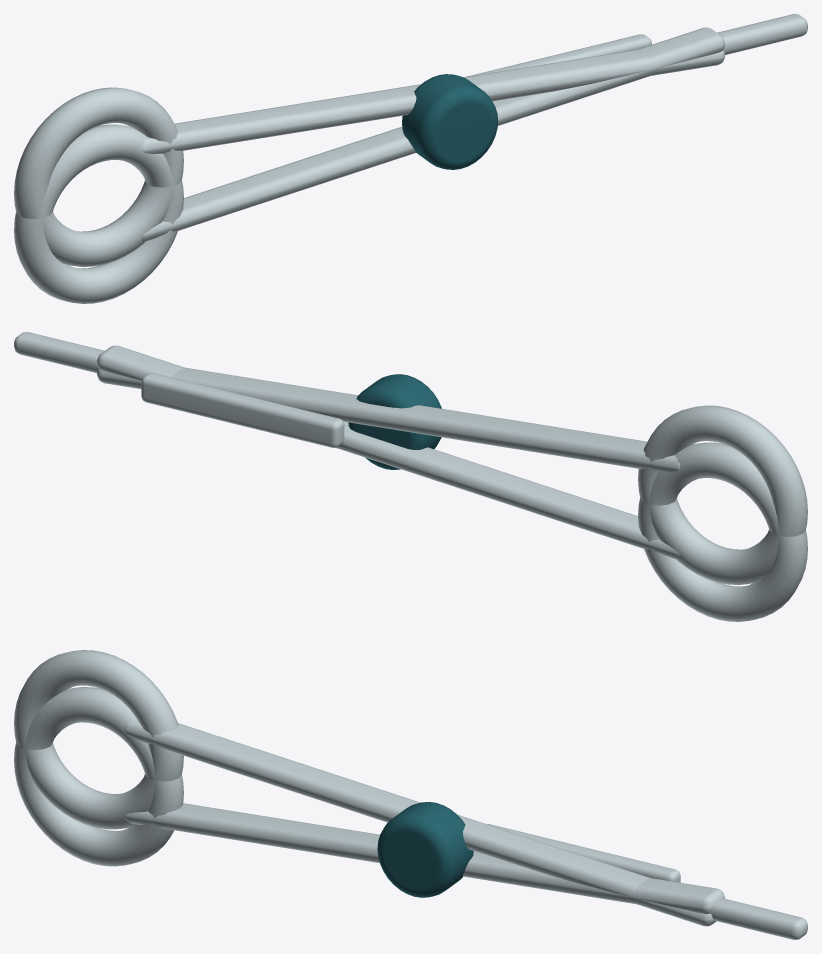
File: Pinza_Hemostatica.fbx
3 views of the same model, one above another, from view 1: azimuth 30°, elevation 25°; view 2: azimuth 150°, elevation 25°; view 3: azimuth 330°, elevation 25° (orthographic).
Visible parts, largest first — view 1: Anilla_para_dedo_Parte_02, Rama_de_pinza_Parte_02, Brazo_de_la_Pinza, Anilla_de_la_Pinza, Eje_de_la_Pinza, Punta_hemostatica, Traba_dentada; view 2: Anilla_para_dedo_Parte_02, Rama_de_pinza_Parte_02, Anilla_de_la_Pinza, Brazo_de_la_Pinza, Traba_dentada, Eje_de_la_Pinza, Punta_hemostatica; view 3: Rama_de_pinza_Parte_02, Anilla_para_dedo_Parte_02, Brazo_de_la_Pinza, Anilla_de_la_Pinza, Eje_de_la_Pinza, Punta_hemostatica, Traba_dentada.
Boxes of the visible parts, x1,y1,x2,y2 form: Anilla_para_dedo_Parte_02: (14,87,183,266); Rama_de_pinza_Parte_02: (142,49,724,153); Brazo_de_la_Pinza: (142,27,724,241); Anilla_de_la_Pinza: (14,124,183,303); Eje_de_la_Pinza: (402,74,497,169); Punta_hemostatica: (717,14,807,54); Traba_dentada: (464,34,651,77); Anilla_para_dedo_Parte_02: (638,405,807,584); Rama_de_pinza_Parte_02: (97,367,679,471); Anilla_de_la_Pinza: (638,442,807,621); Brazo_de_la_Pinza: (97,345,679,559); Traba_dentada: (141,373,344,447); Eje_de_la_Pinza: (348,374,441,469); Punta_hemostatica: (14,332,104,372); Rama_de_pinza_Parte_02: (124,721,716,926); Anilla_para_dedo_Parte_02: (14,650,183,829); Brazo_de_la_Pinza: (124,803,724,913); Anilla_de_la_Pinza: (14,687,183,866); Eje_de_la_Pinza: (377,802,473,897); Punta_hemostatica: (711,898,807,939); Traba_dentada: (487,824,680,882).
Size of the model in its own units: 1.12 by 0.284 by 0.1125.
